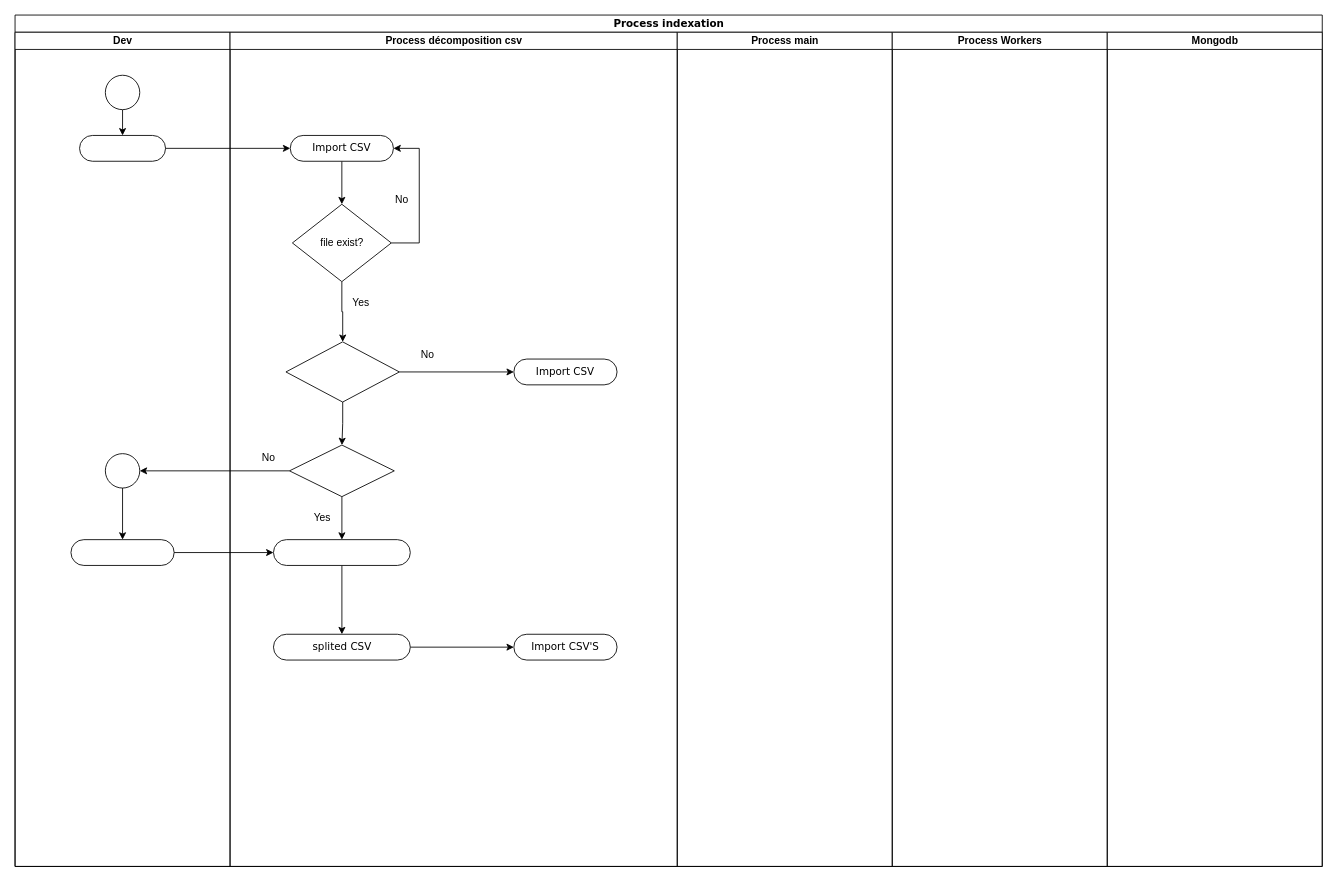
This 1337x882 diagram has some shape labels left out. Each missing label, with the centre of its shape:
File too big?: the point at 342,371
Produce script to decompile csv: the point at 122,552
script exist?: the point at 341,470
Télécharger CSV: the point at 122,148
Use script to split CSV: the point at 341,552
